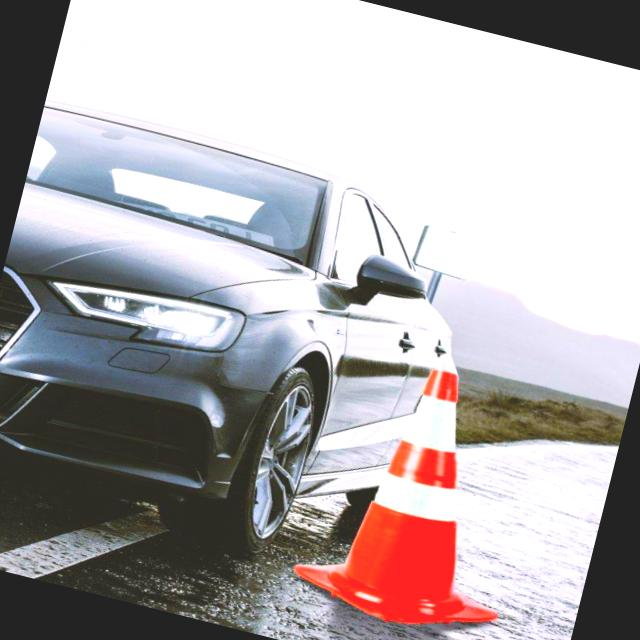cone: (341, 350, 514, 618)
